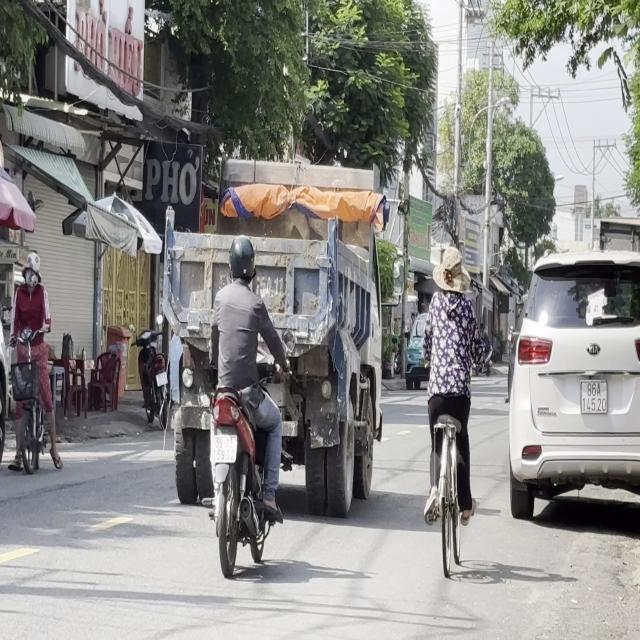helmet: (227, 233, 255, 286)
licenseplate: (204, 231, 286, 578)
nohelmet: (210, 434, 237, 463)
